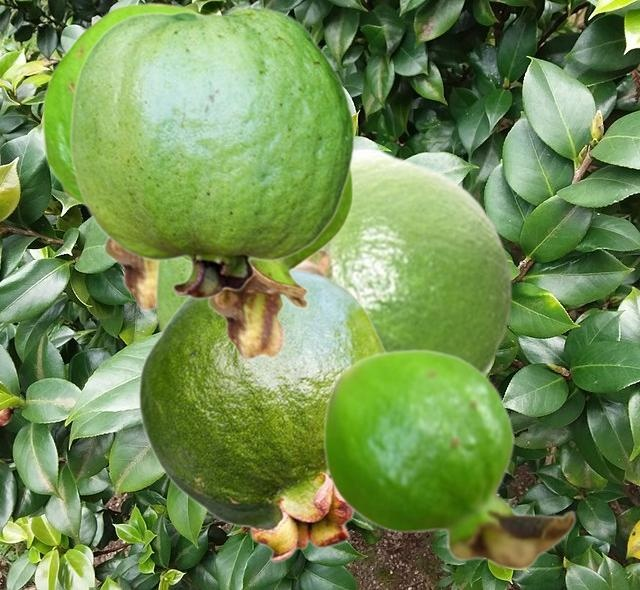guava: (69, 6, 355, 299), (137, 267, 386, 562), (322, 348, 576, 570), (299, 145, 514, 373), (41, 1, 198, 311), (181, 167, 353, 360), (154, 260, 189, 335)
